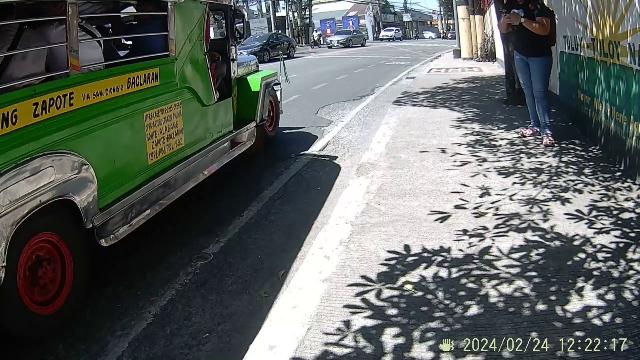utility_post: (448, 0, 492, 62)
